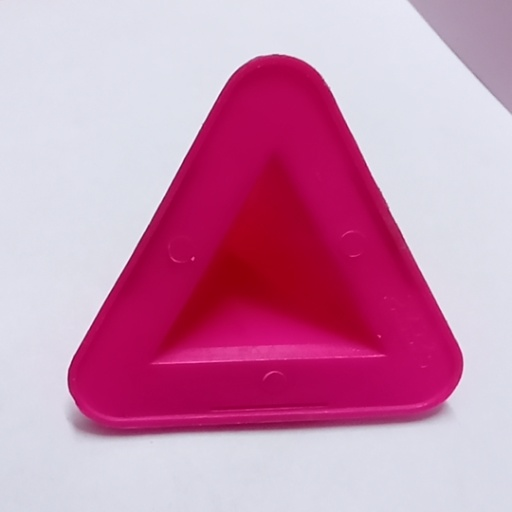pink_cone: (43, 27, 477, 452)
